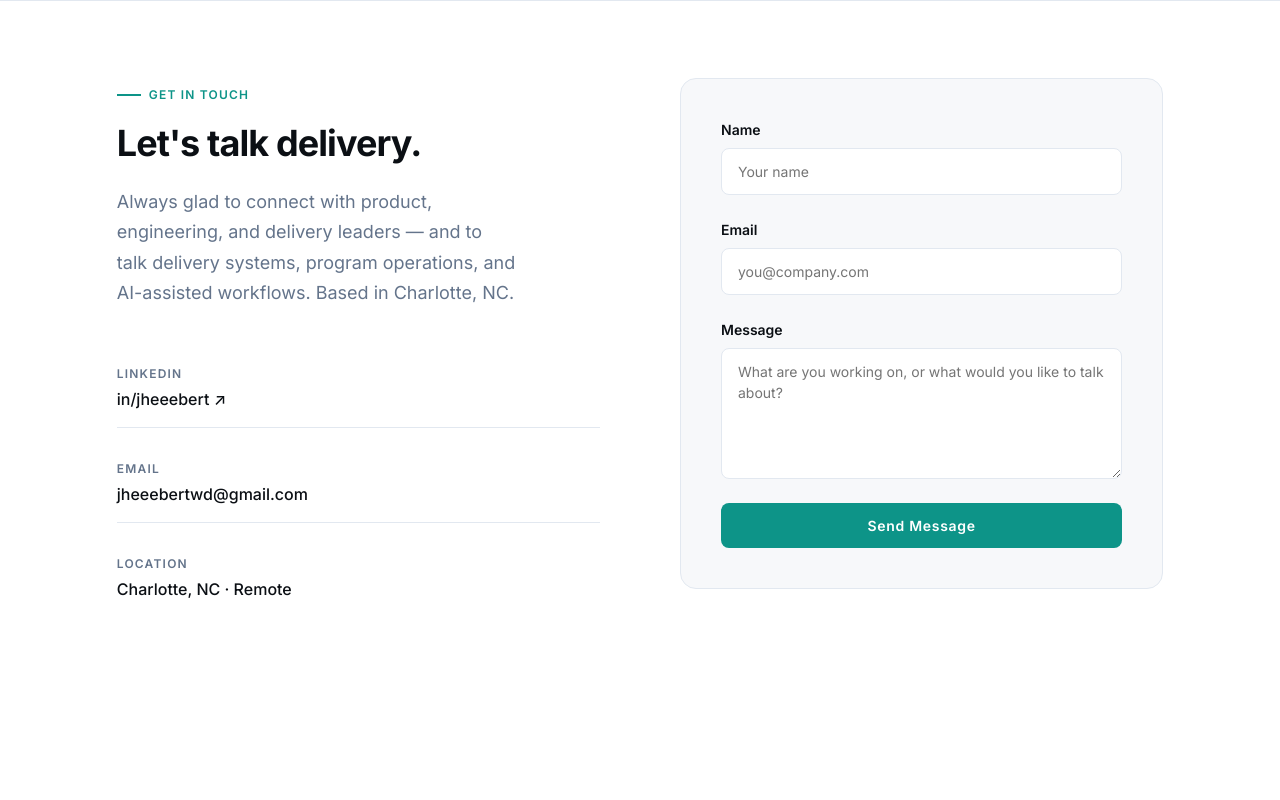
Contact form › shows errors for empty submit
Click the button "Send Message".
click(922, 525)  # box [721,503,1122,548]
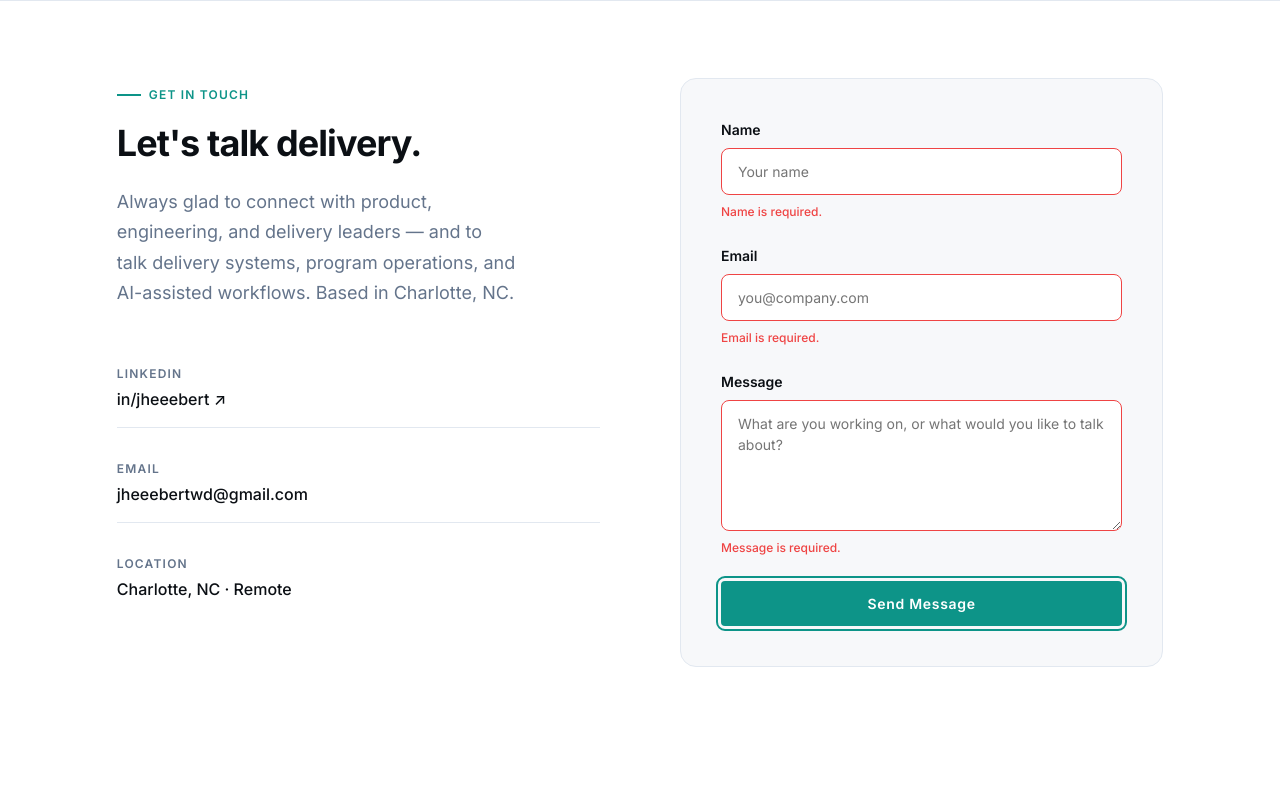
Check: the text "Name is required." is shown, box [721,204,822,219]
Check: the text "Email is required." is shown, box [721,330,819,345]
Check: the text "Message is required." is shown, box [721,540,841,555]
